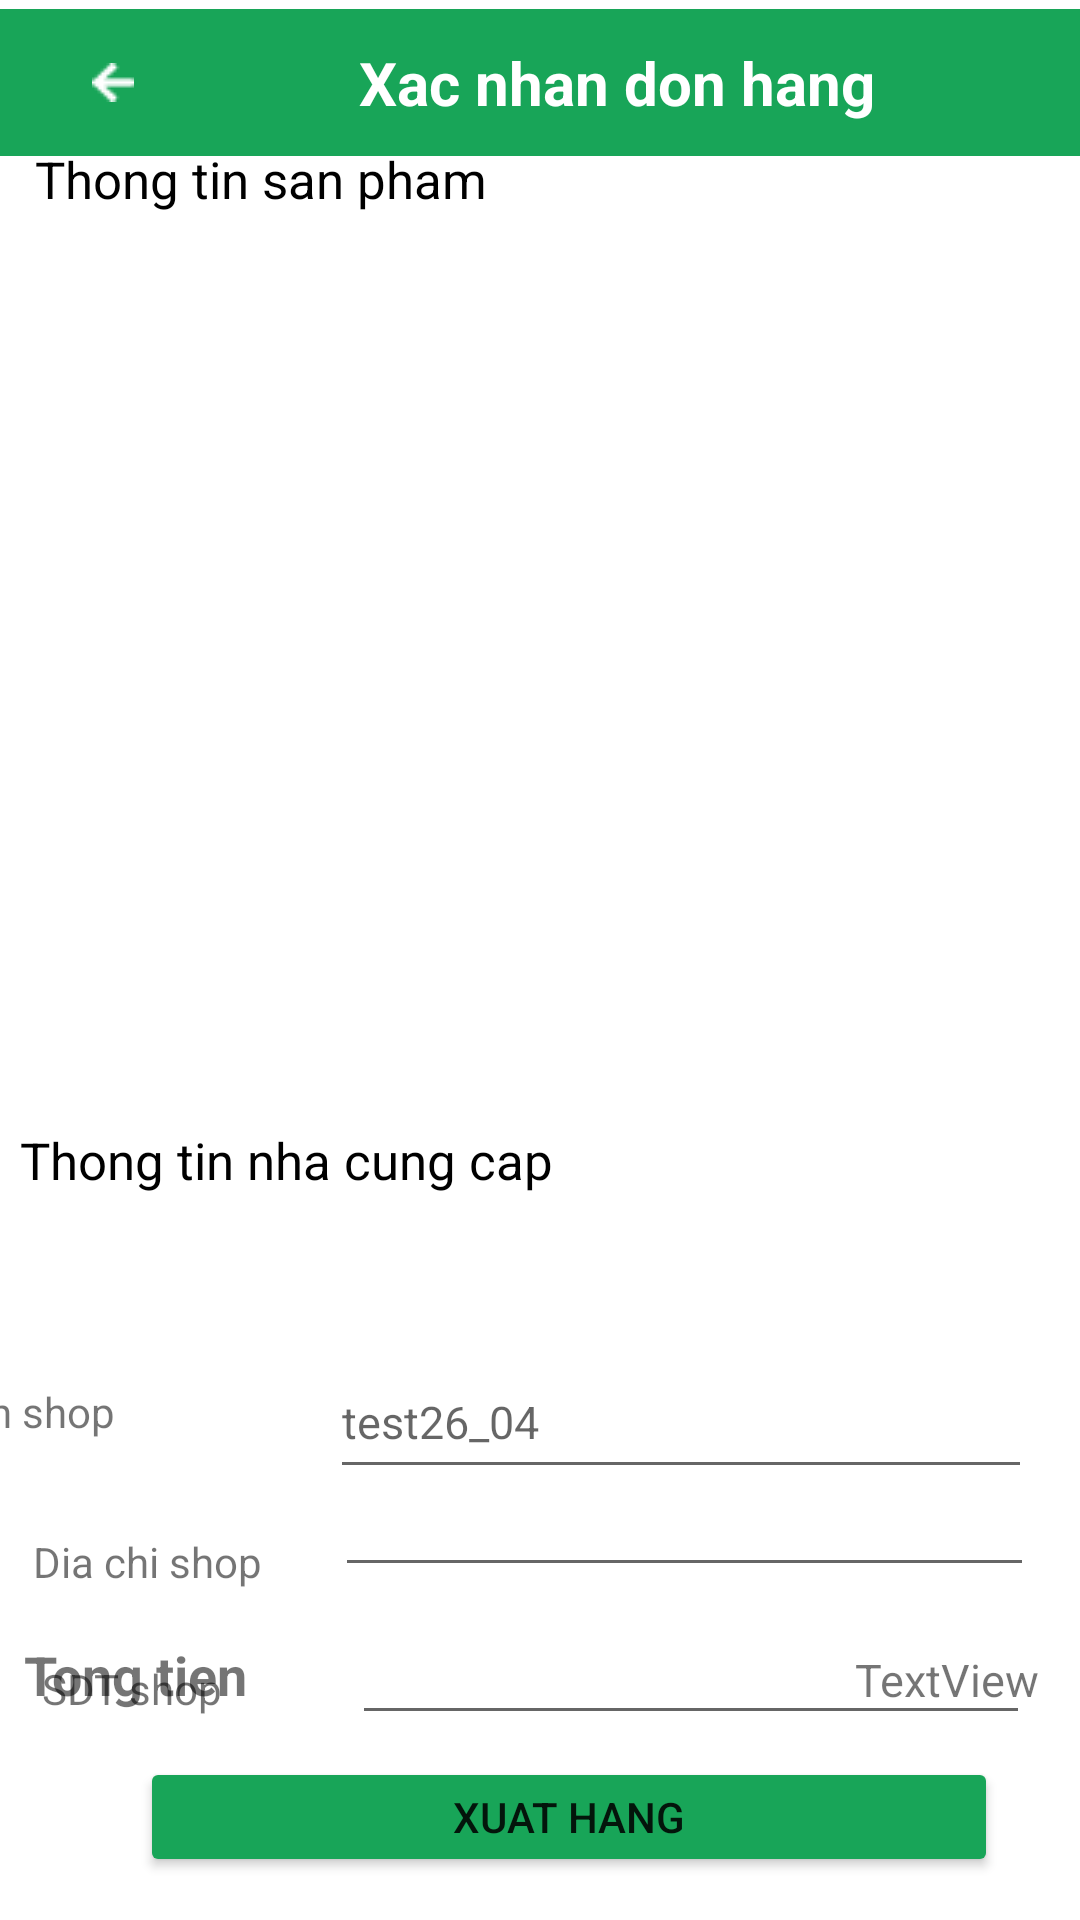

Named icons in this screenshot (1080w x 1920h) and their bounding boxes, {"x1": x1, "y1": y1, "x2": x2, "y2": y2}:
back: {"x1": 92, "y1": 63, "x2": 134, "y2": 102}
